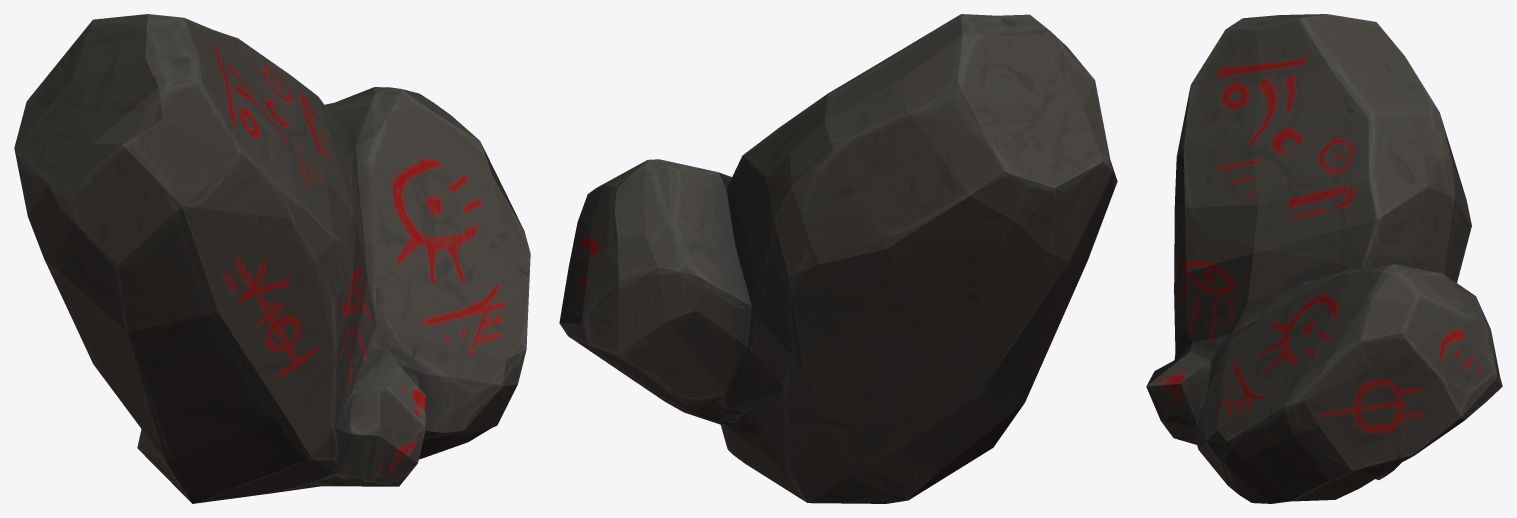
The model's file is homestone.glb.
The picture shows the model from 3 angles, left to right: view 1: azimuth 30°, elevation 25°; view 2: azimuth 150°, elevation 25°; view 3: azimuth 270°, elevation 25°; orthographic projection. The views are drawn at different scales.
Visible parts, largest first — view 1: polySurface1; view 2: polySurface1; view 3: polySurface1.
Boxes of the visible parts, <box> form: polySurface1: <box>14,14,530,503</box>; polySurface1: <box>559,14,1117,503</box>; polySurface1: <box>1146,14,1502,503</box>.
Size of the model in its own units: 2 by 1.96 by 1.56.
Materials: 1 (1 with a texture image).
